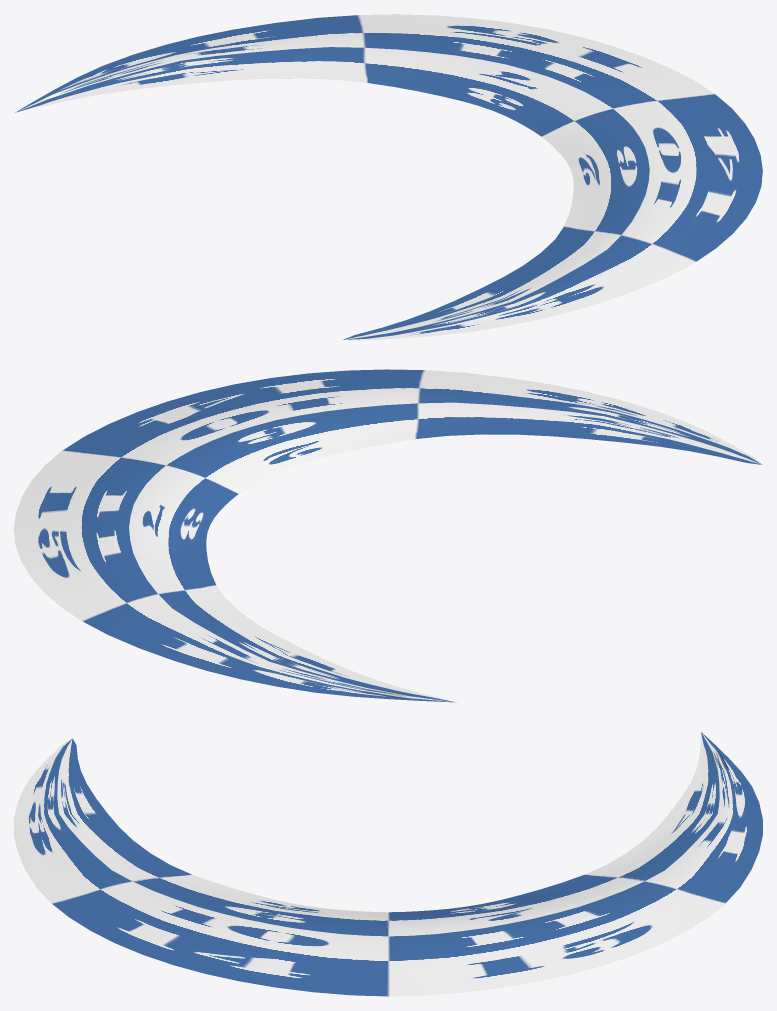
Rendered from Slash16.fbx.
3 views of the same model, one above another, from view 1: azimuth 30°, elevation 25°; view 2: azimuth 150°, elevation 25°; view 3: azimuth 270°, elevation 25° (orthographic).
Parts seen in each view (by area): view 1: SM_e_DLC_Plc_P0004_C20_AtkSkl03_Slash006; view 2: SM_e_DLC_Plc_P0004_C20_AtkSkl03_Slash006; view 3: SM_e_DLC_Plc_P0004_C20_AtkSkl03_Slash006.
Part boxes in pixels (bbox=[...]): SM_e_DLC_Plc_P0004_C20_AtkSkl03_Slash006: bbox=[15, 14, 762, 340]; SM_e_DLC_Plc_P0004_C20_AtkSkl03_Slash006: bbox=[14, 369, 762, 702]; SM_e_DLC_Plc_P0004_C20_AtkSkl03_Slash006: bbox=[14, 732, 762, 996].
Bounding box in the file's own units: 429 × 8.57 × 512.
1 material, 1 textured.
